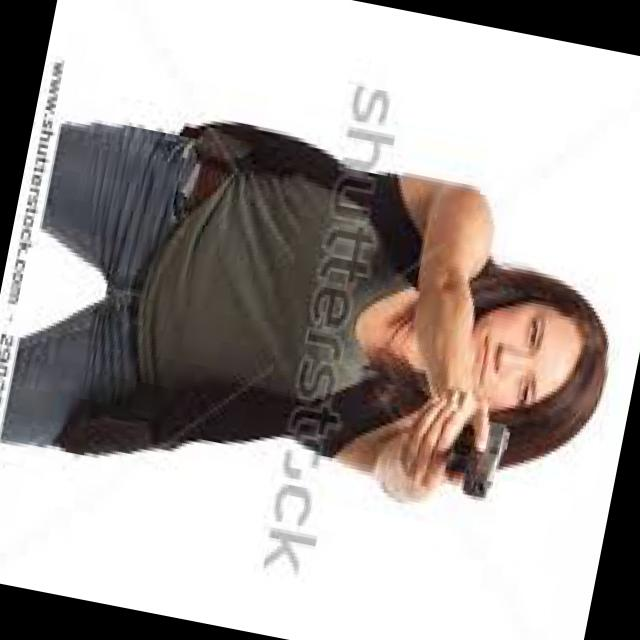handgun: (424, 395, 516, 511)
